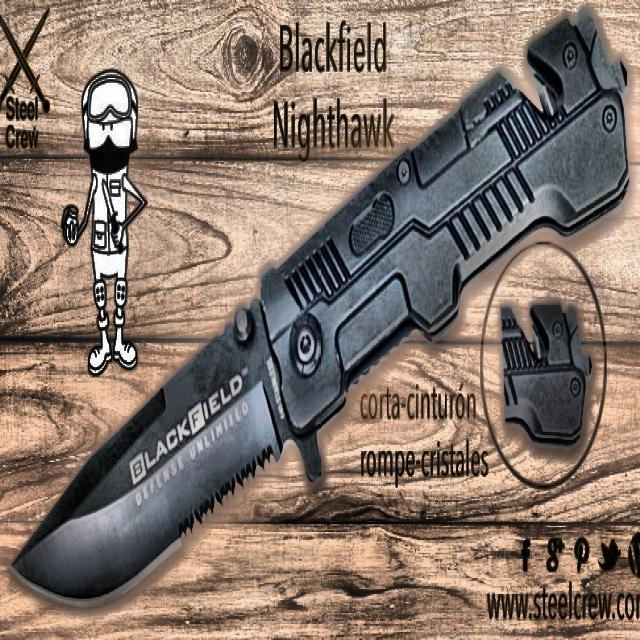knife: (11, 10, 632, 608)
